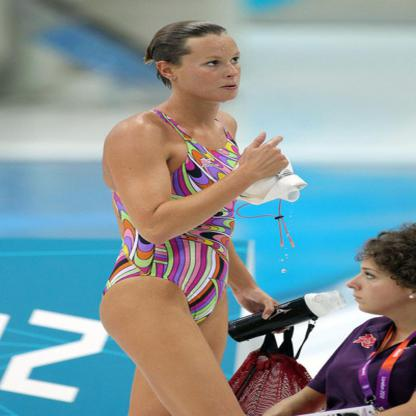face: (177, 37, 242, 101), (350, 253, 403, 314)
